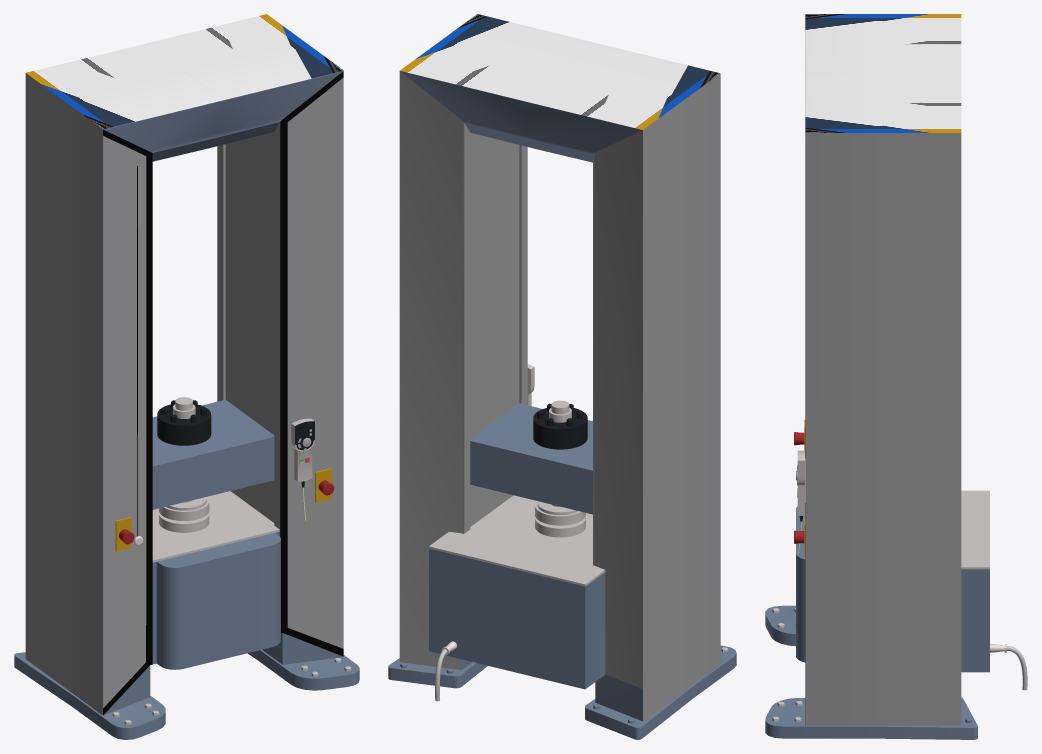
The model's file is universal testing.obj.
3 views of the same model, side by side, from view 1: azimuth 30°, elevation 25°; view 2: azimuth 150°, elevation 25°; view 3: azimuth 270°, elevation 25° (orthographic).
Parts seen in each view (by area): view 1: Cube.010_Cube, Circle.029_Circle.001, Cube.011_Cube.010; view 2: Cube.010_Cube, Circle.029_Circle.001; view 3: Cube.010_Cube, Cube.011_Cube.010.
Boxes of the visible parts, <box> form: Cube.010_Cube: <box>14,14,359,739</box>; Circle.029_Circle.001: <box>157,397,211,532</box>; Cube.011_Cube.010: <box>291,418,314,520</box>; Cube.010_Cube: <box>388,14,736,739</box>; Circle.029_Circle.001: <box>533,400,587,537</box>; Cube.010_Cube: <box>765,14,1006,739</box>; Cube.011_Cube.010: <box>796,450,804,554</box>.
Bounding box in the file's own units: 4.7 × 10.73 × 4.22.
Materials: 2 (1 with a texture image).
